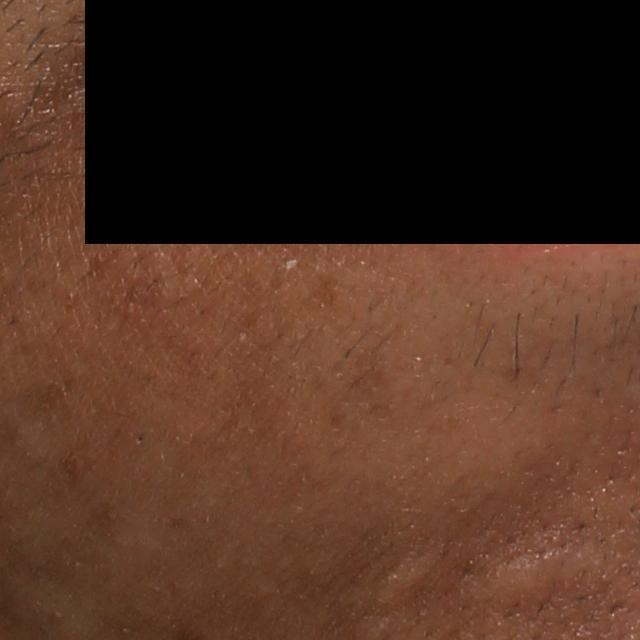hypertrophic_scar: (457, 535, 617, 611), (378, 543, 448, 605)
